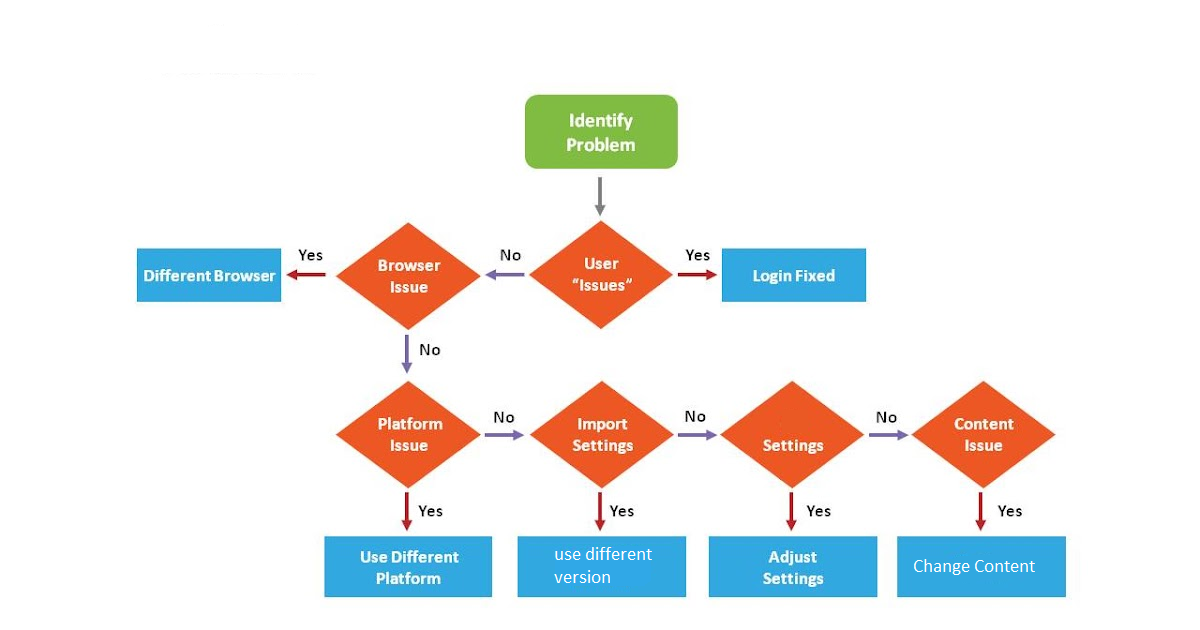arrow: (779, 488, 803, 538), (481, 426, 526, 445), (672, 428, 720, 445), (672, 265, 717, 283), (283, 265, 328, 283), (591, 489, 609, 534), (865, 427, 913, 443), (397, 490, 415, 532), (592, 174, 609, 214), (481, 267, 528, 281), (397, 333, 412, 373), (973, 487, 986, 530)
decision: (715, 380, 868, 493), (332, 222, 488, 332), (332, 377, 482, 490), (526, 377, 679, 487), (909, 378, 1059, 490), (524, 222, 674, 329)
process: (520, 88, 682, 174), (319, 532, 497, 601), (513, 532, 691, 600), (703, 533, 880, 599), (894, 533, 1071, 599), (132, 245, 286, 306), (717, 245, 870, 305)
text: (547, 545, 660, 585), (357, 545, 462, 586), (370, 412, 449, 455), (370, 252, 445, 296), (139, 265, 279, 288), (569, 413, 641, 457), (561, 114, 645, 151), (571, 251, 640, 293), (910, 555, 1038, 577), (760, 550, 826, 590), (952, 414, 1016, 451), (748, 265, 840, 288), (757, 434, 829, 457), (989, 498, 1028, 522), (292, 244, 328, 266), (680, 245, 715, 265), (679, 404, 709, 427), (416, 499, 446, 522), (799, 502, 838, 519), (493, 244, 526, 264), (870, 404, 900, 426), (607, 498, 637, 520), (489, 407, 522, 427), (415, 339, 445, 359)
